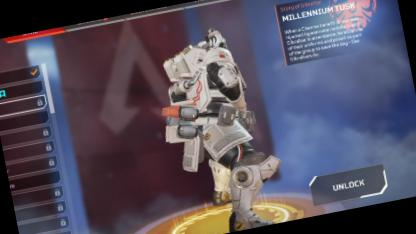Target: (143, 18, 287, 204)
